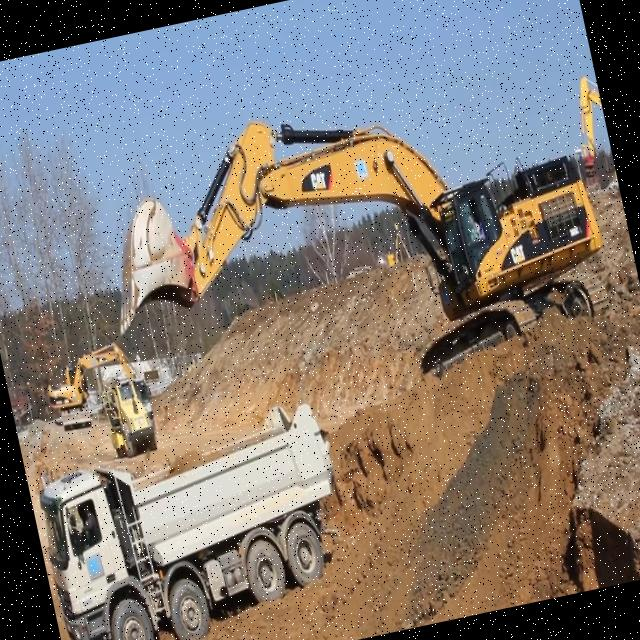Dump Truck: (25, 394, 366, 640), (130, 374, 158, 432)
Excavator: (81, 54, 622, 442), (38, 336, 144, 433), (562, 72, 619, 196)
Roller: (98, 374, 158, 459)
